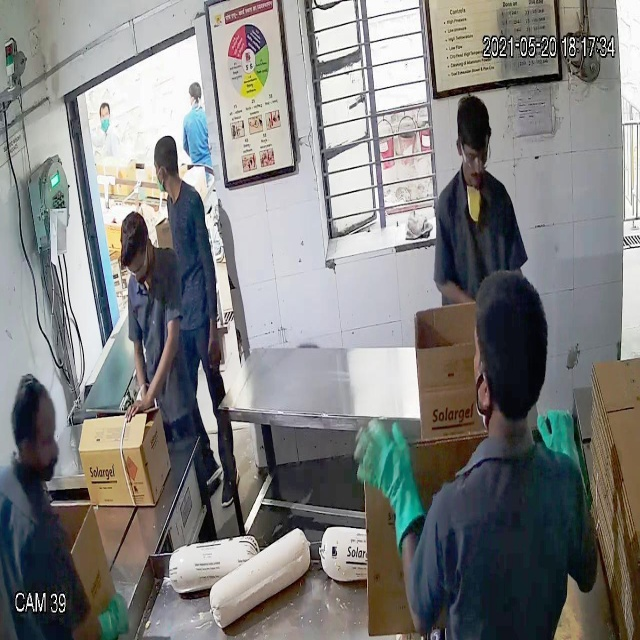Gafas: (453, 137, 496, 172)
